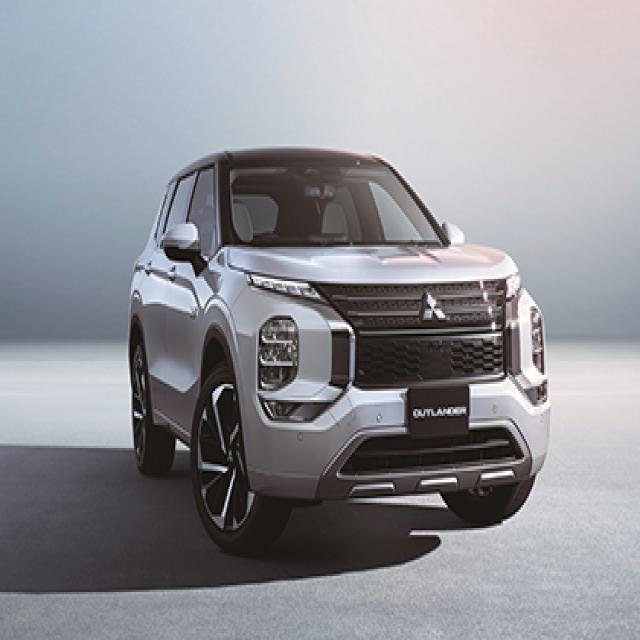light_vehicle: (126, 147, 552, 556)
